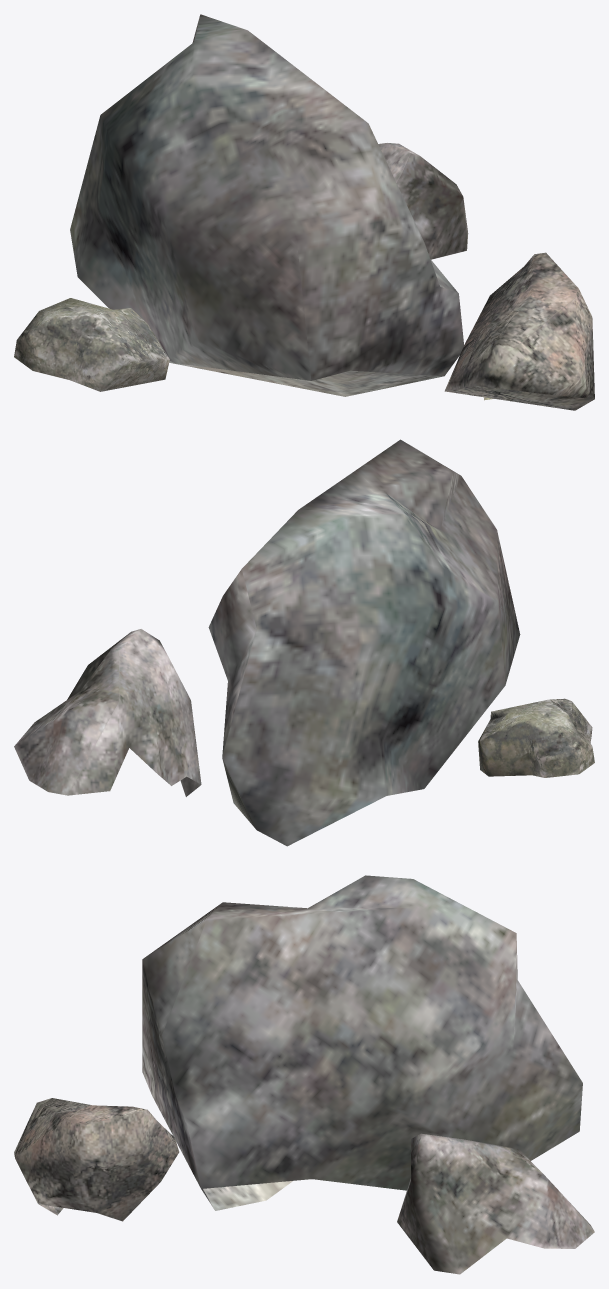
File: proc_stones_04.FBX
The picture shows the model from 3 angles, top to bottom: view 1: azimuth 30°, elevation 25°; view 2: azimuth 150°, elevation 25°; view 3: azimuth 270°, elevation 25°; orthographic projection. The views are drawn at different scales.
Parts seen in each view (by area): view 1: proc_stones_04; view 2: proc_stones_04; view 3: proc_stones_04.
Part boxes in pixels (box(x1,y1,x2,y2)): proc_stones_04: box(14, 14, 594, 410); proc_stones_04: box(14, 439, 594, 846); proc_stones_04: box(14, 875, 594, 1274).
Bounding box in the file's own units: 0.2432 × 0.2607 × 0.1499.
Materials: 1 (1 with a texture image).
